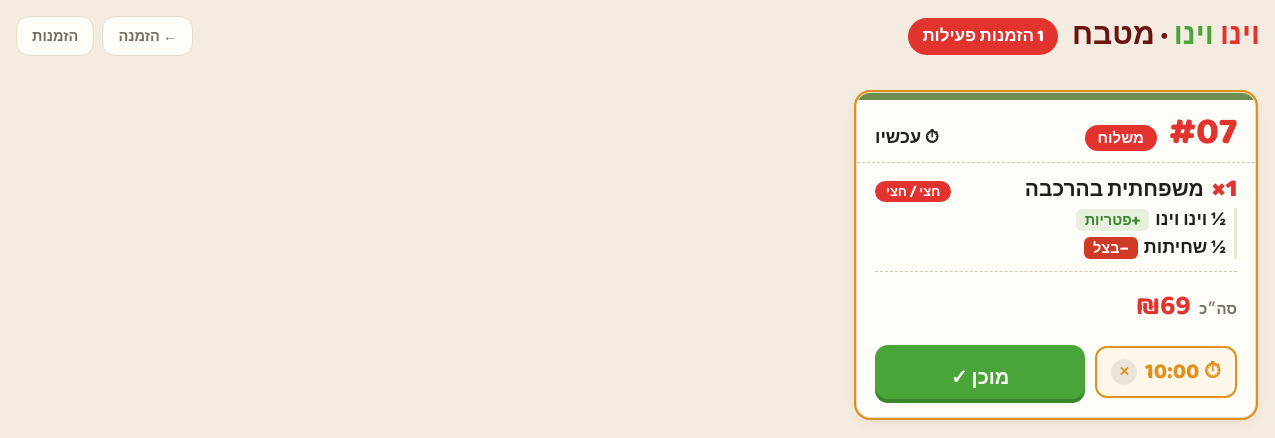
Test: kitchen prep timers › clearing a running timer removes the countdown and offers to re-add one
The image size is (1275, 438).
Expected: the element with class "ktimer" is shown, [1095, 346, 1237, 398]
Click the button named "בטל טיימר". click: (1124, 372)
box: [1111, 359, 1137, 385]
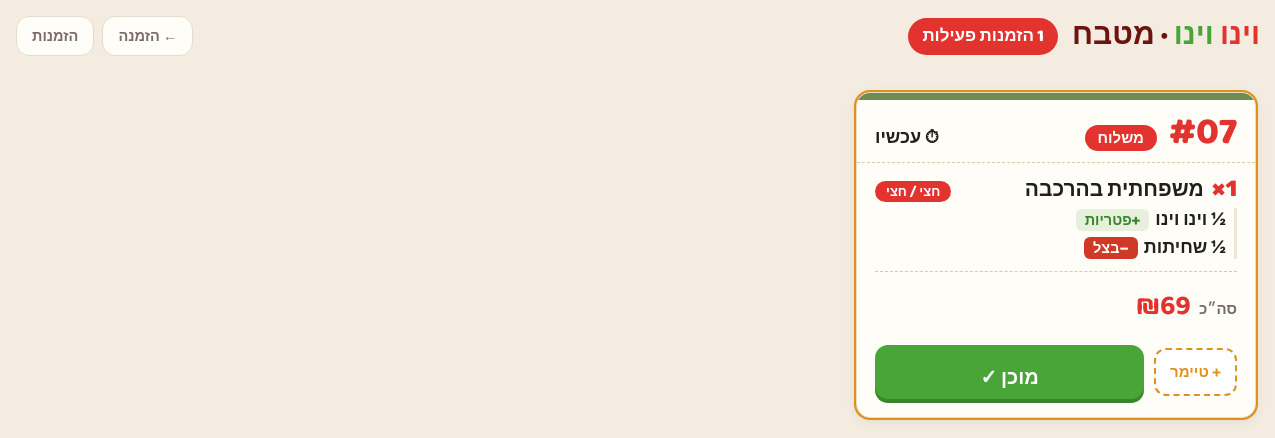
Expected: the element with class "ktimer" is gone
Expected: the button "+ טיימר" is shown, [1154, 348, 1237, 396]
